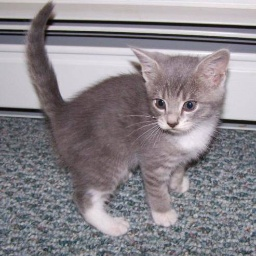cat: (29, 19, 229, 242)
